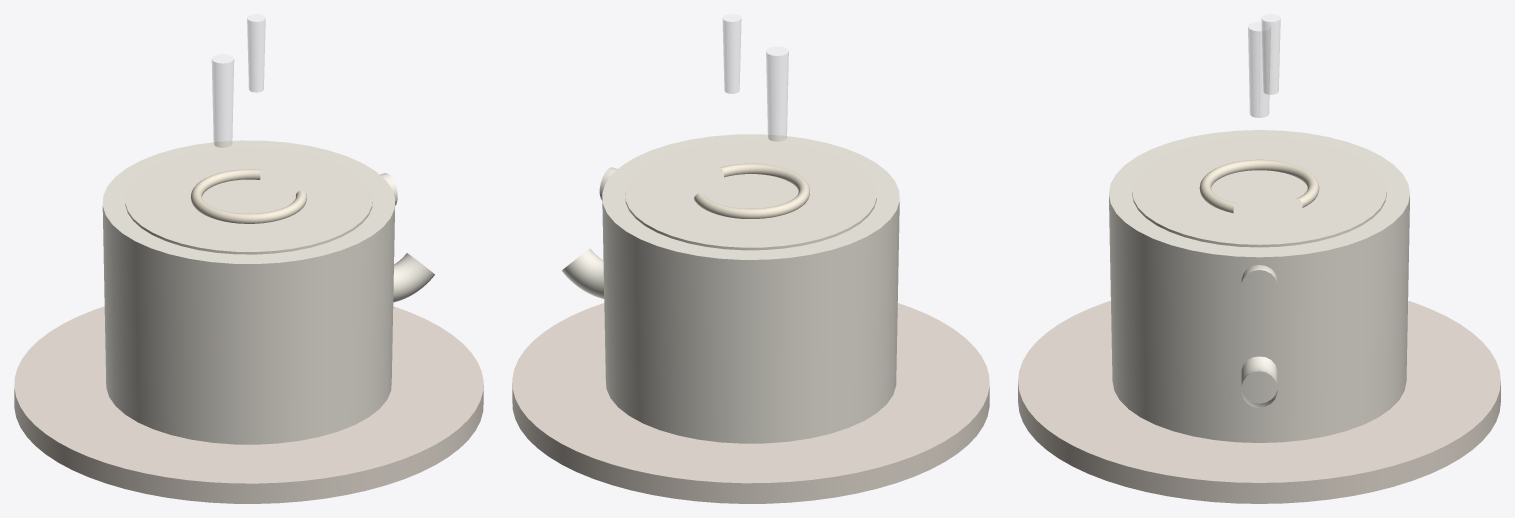
File: coffee.glb
The picture shows the model from 3 angles, left to right: view 1: azimuth 30°, elevation 25°; view 2: azimuth 150°, elevation 25°; view 3: azimuth 270°, elevation 25°; orthographic projection. The views are drawn at different scales.
Size of what is drawn, in the model's own units: 2.5 by 2.23 by 2.5.
